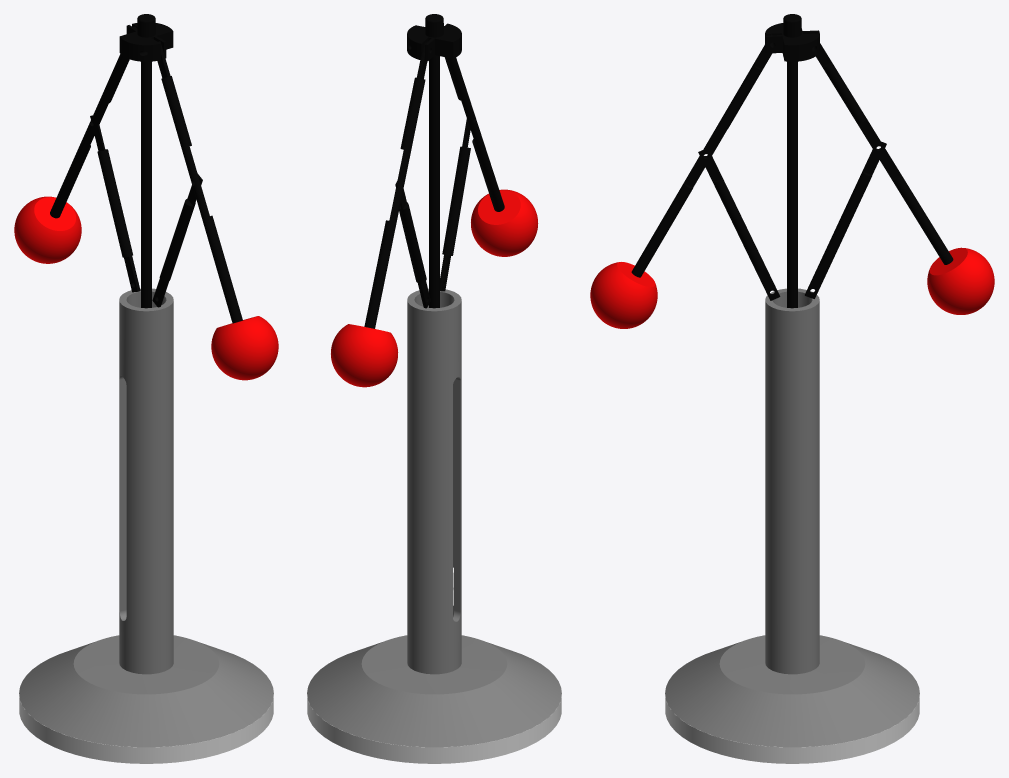
Rendered from lixin.glb.
3 renders of one model, left to right at view 1: azimuth 30°, elevation 25°; view 2: azimuth 150°, elevation 25°; view 3: azimuth 270°, elevation 25°, orthographic.
Visible parts, largest first — view 1: 外管-1, 装配体1-1_地面圆台-3, 装配体1-1_大底-1, 球2-1, 球2-2, 长杆-3, 内杆-2, 长杆-2, 短杆-2, 复杂零件-2, 短杆-1; view 2: 外管-1, 装配体1-1_地面圆台-3, 装配体1-1_大底-1, 球2-2, 球2-1, 长杆-2, 内杆-2, 长杆-3, 短杆-1, 复杂零件-2, 短杆-2; view 3: 外管-1, 装配体1-1_地面圆台-3, 装配体1-1_大底-1, 球2-1, 球2-2, 长杆-3, 长杆-2, 内杆-2, 短杆-2, 短杆-1, 复杂零件-2.
Boxes of the visible parts, <box> form: 外管-1: <box>119,288,173,674</box>; 装配体1-1_地面圆台-3: <box>19,635,273,747</box>; 装配体1-1_大底-1: <box>19,697,273,763</box>; 球2-1: <box>14,196,81,263</box>; 球2-2: <box>211,316,278,380</box>; 长杆-3: <box>157,41,242,323</box>; 内杆-2: <box>141,61,151,308</box>; 长杆-2: <box>50,26,137,218</box>; 短杆-2: <box>90,115,140,292</box>; 复杂零件-2: <box>119,23,173,61</box>; 短杆-1: <box>152,173,202,307</box>; 外管-1: <box>407,288,461,674</box>; 装配体1-1_地面圆台-3: <box>307,635,561,747</box>; 装配体1-1_大底-1: <box>307,697,561,763</box>; 球2-2: <box>471,189,538,256</box>; 球2-1: <box>331,324,398,387</box>; 长杆-2: <box>364,42,427,328</box>; 内杆-2: <box>429,55,439,308</box>; 长杆-3: <box>443,26,504,211</box>; 短杆-1: <box>440,118,470,291</box>; 复杂零件-2: <box>407,23,461,61</box>; 短杆-2: <box>395,180,430,308</box>; 外管-1: <box>765,288,819,674</box>; 装配体1-1_地面圆台-3: <box>665,635,919,747</box>; 装配体1-1_大底-1: <box>665,697,919,763</box>; 球2-1: <box>927,247,994,314</box>; 球2-2: <box>590,262,657,328</box>; 长杆-3: <box>631,34,774,277</box>; 长杆-2: <box>812,32,953,264</box>; 内杆-2: <box>787,61,797,308</box>; 短杆-2: <box>805,141,886,298</box>; 短杆-1: <box>698,148,780,300</box>; 复杂零件-2: <box>765,23,819,61</box>.
Bounding box in the file's own units: 8.66 × 26.94 × 13.74.
